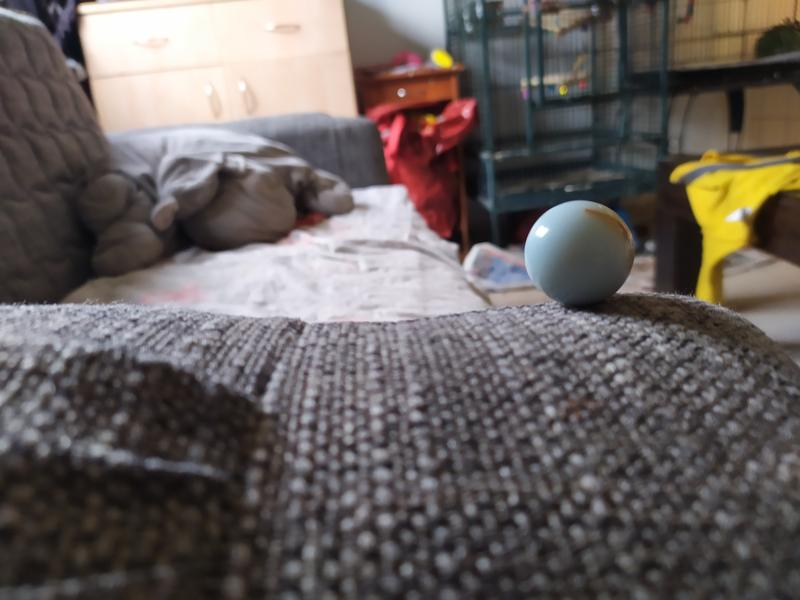Warning: (522, 197, 638, 309)
